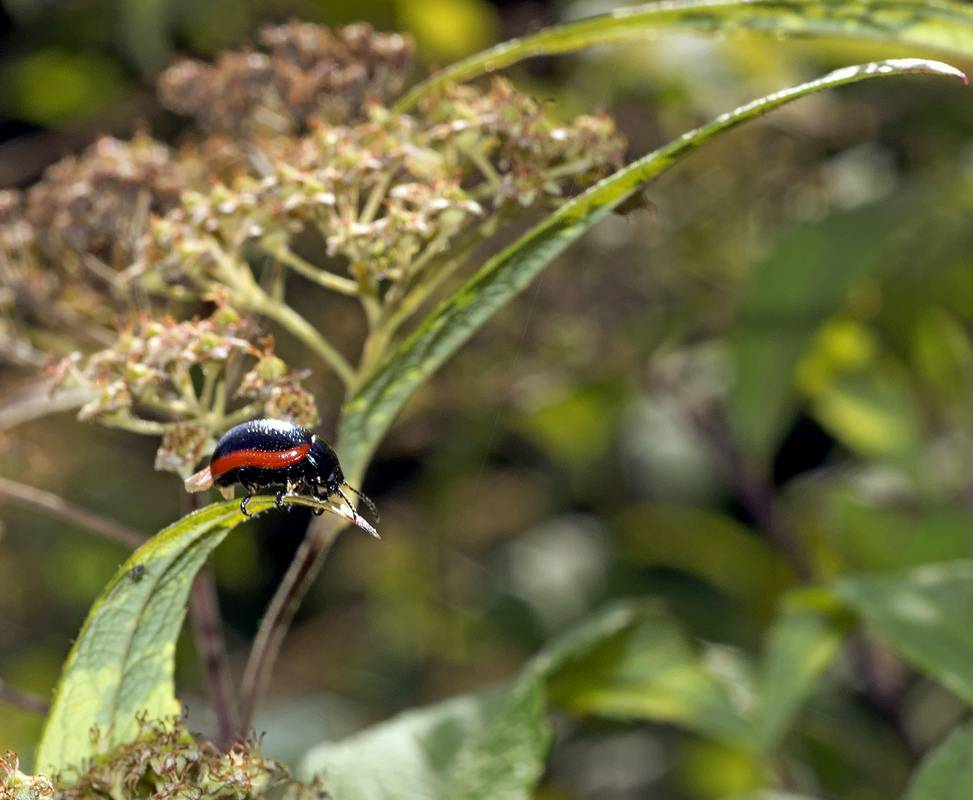Chrysolina_gypsophila: (207, 416, 383, 536)
